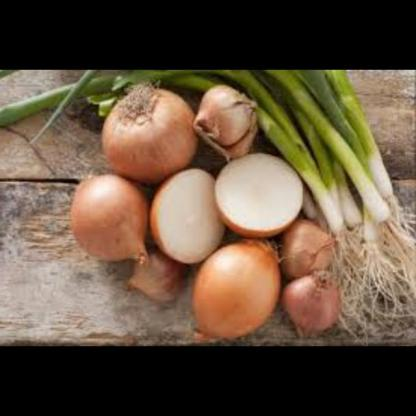onion: (187, 231, 288, 337), (99, 80, 197, 181), (68, 167, 154, 271), (214, 148, 303, 239), (149, 162, 226, 265), (192, 78, 260, 156), (275, 272, 348, 333), (133, 243, 189, 307), (281, 218, 336, 277)
